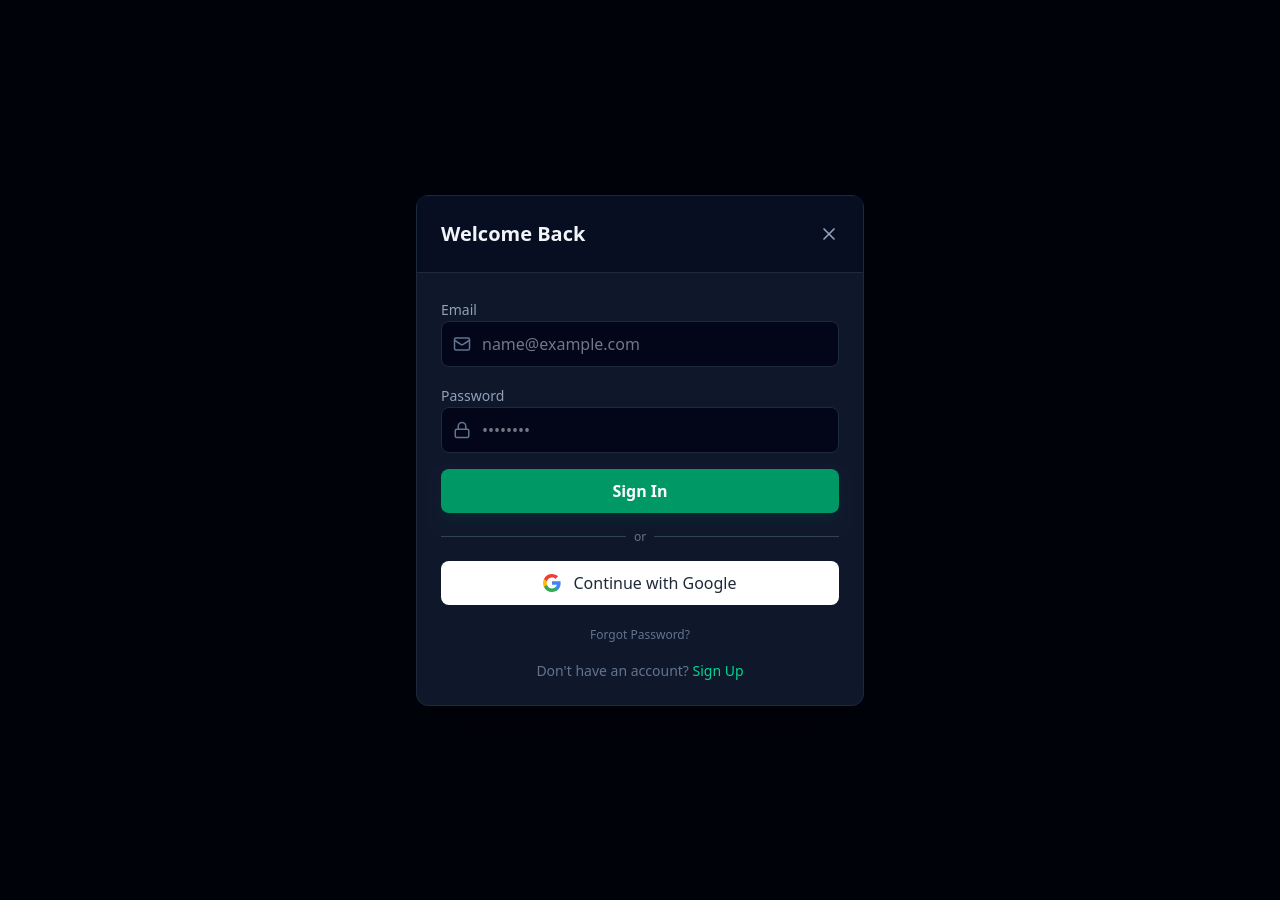
Test: AuthModal › toggles between sign in and sign up
Expected: the heading "Welcome Back" is shown, [441,220,585,248]
Click the button "Sign Up": (718, 670) [693,660,744,680]
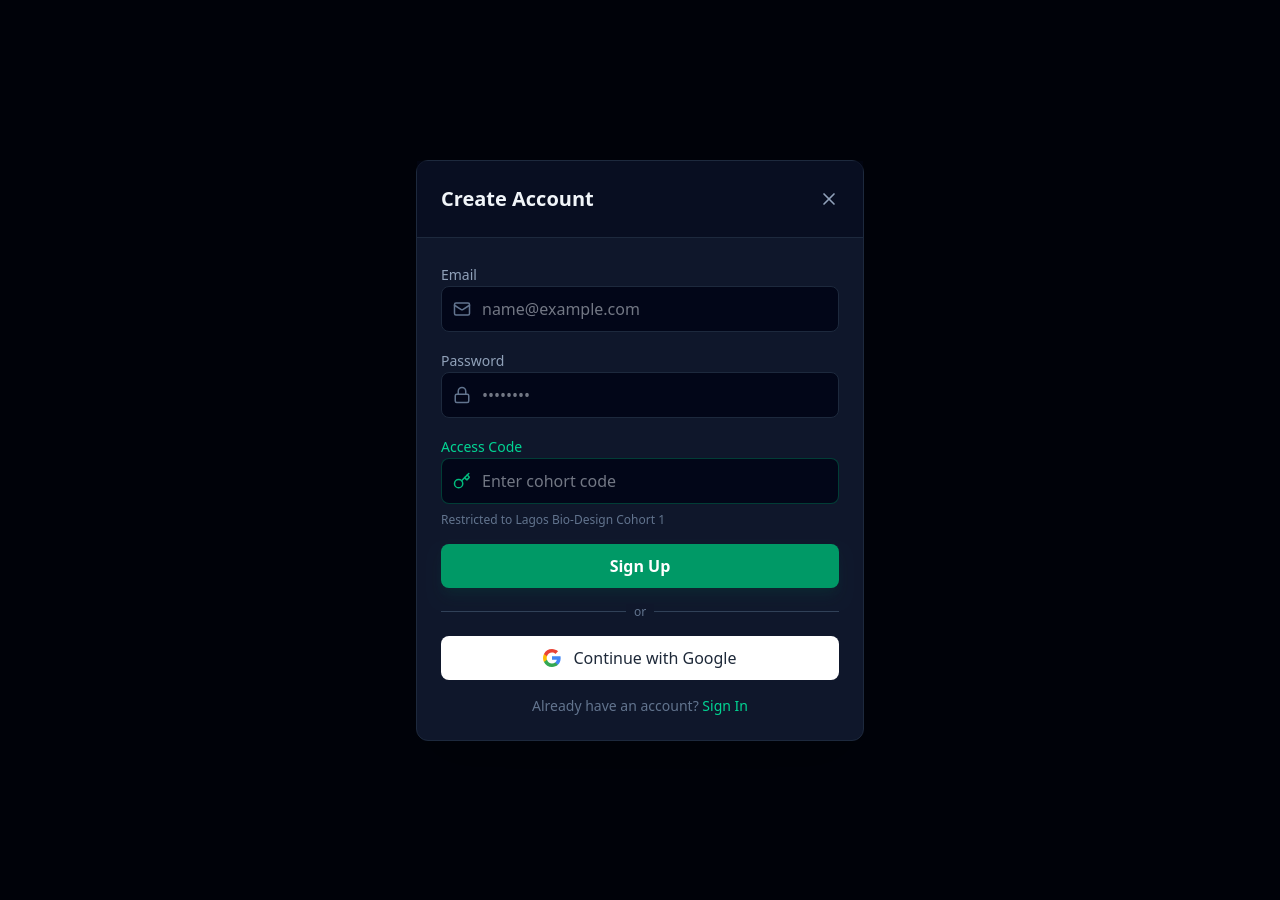
Expected: the heading "Create Account" is shown, [441,184,594,212]
Click the button "Sign In": (725, 706) [702,696,748,716]
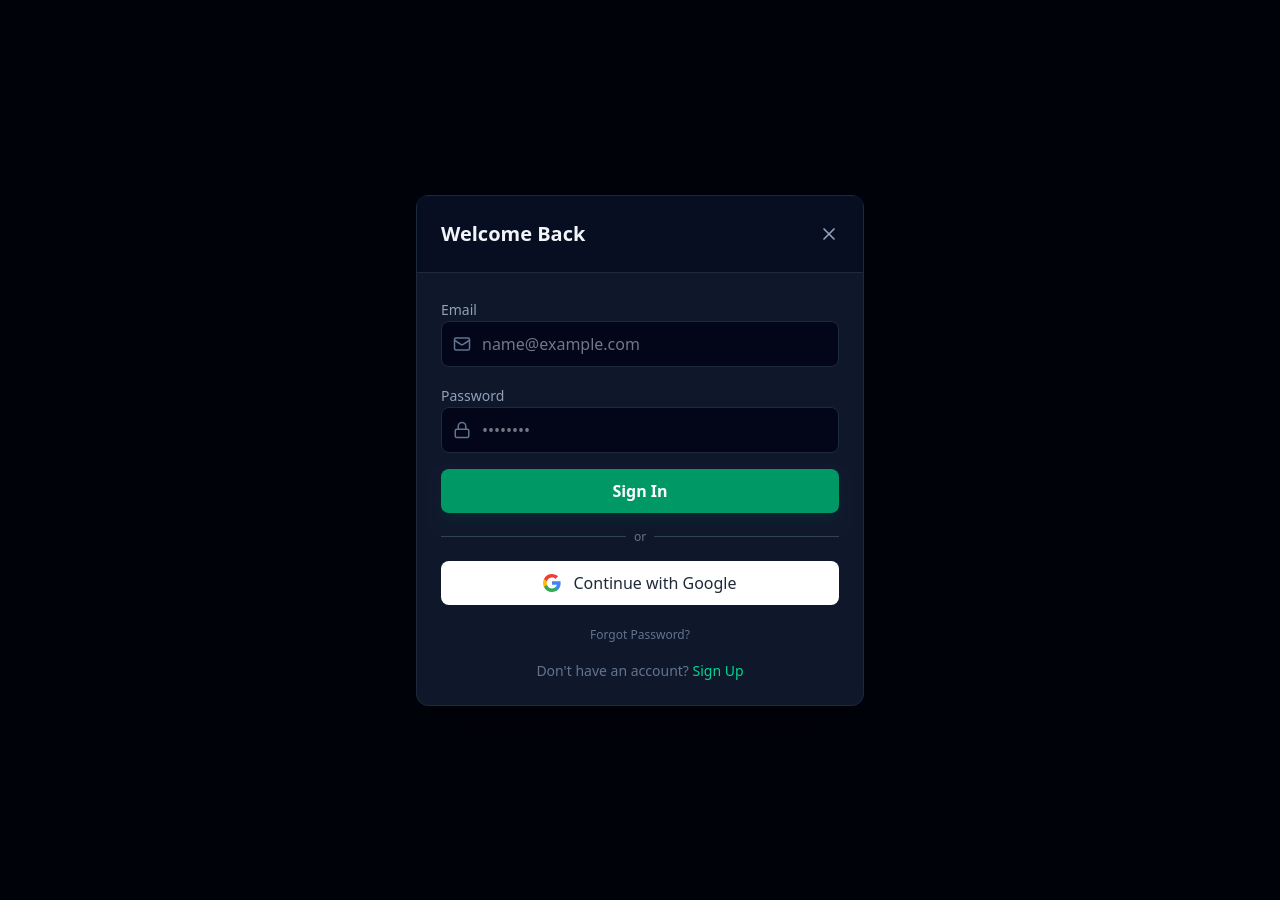
Expected: the heading "Welcome Back" is shown, [441,220,585,248]
